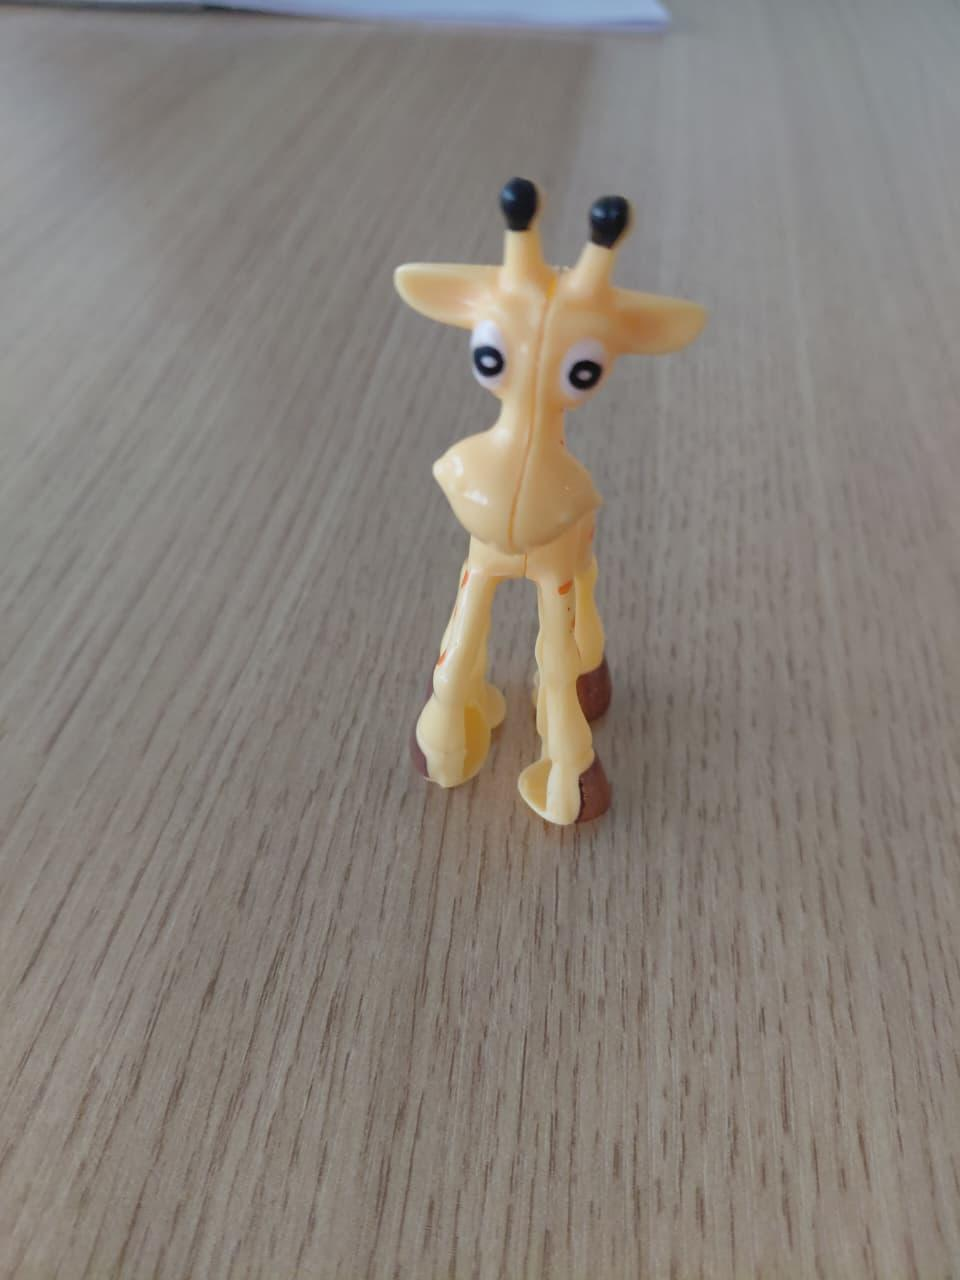giraffe: (353, 138, 792, 933)
